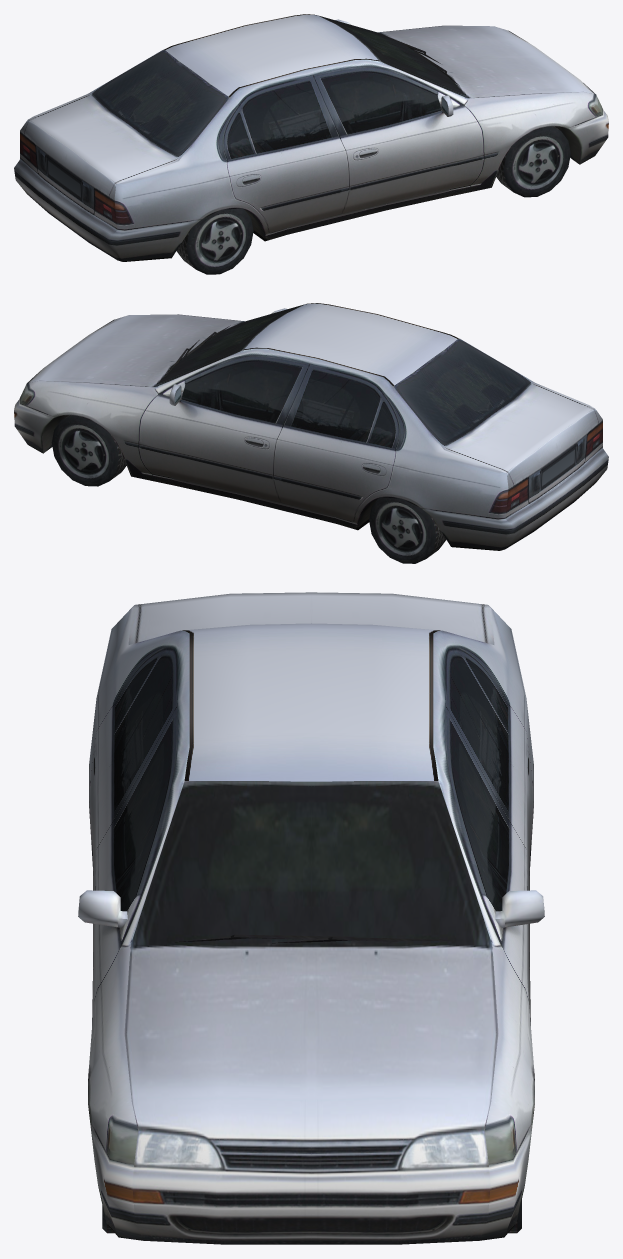
The model's file is compact_car_1993.FBX.
3 renders of one model, top to bottom at view 1: azimuth 30°, elevation 25°; view 2: azimuth 150°, elevation 25°; view 3: azimuth 270°, elevation 25°, orthographic. The views are drawn at different scales.
Parts seen in each view (by area): view 1: compact_car_1993, compact_car_1993_wheel_front_right, compact_car_1993_wheel_back_right; view 2: compact_car_1993, compact_car_1993_wheel_front_left, compact_car_1993_wheel_back_left; view 3: compact_car_1993.
Part boxes in pixels (left/top/right/bottom): compact_car_1993: left=14, top=14, right=608, bottom=261; compact_car_1993_wheel_front_right: left=496, top=126, right=570, bottom=197; compact_car_1993_wheel_back_right: left=176, top=208, right=253, bottom=274; compact_car_1993: left=14, top=303, right=608, bottom=550; compact_car_1993_wheel_front_left: left=51, top=415, right=126, bottom=486; compact_car_1993_wheel_back_left: left=369, top=497, right=446, bottom=563; compact_car_1993: left=78, top=592, right=544, bottom=1244.
Size of the model in its own units: 166 by 51.61 by 65.94.
Materials: 1 (1 with a texture image).
